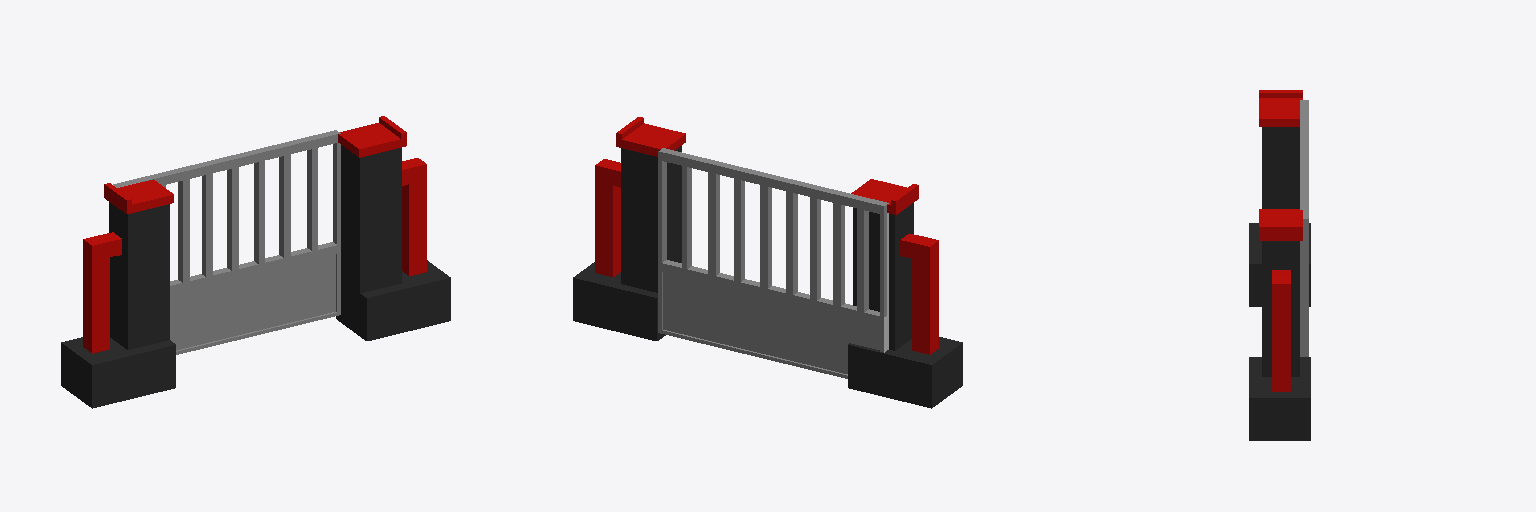
The model's file is pagerPM3D_Cube3D1.OBJ.
The picture shows the model from 3 angles: view 1: azimuth 30°, elevation 25°; view 2: azimuth 150°, elevation 25°; view 3: azimuth 270°, elevation 25°; orthographic projection.
Visible parts, largest first — view 1: pagerPM3D_Cube3D1; view 2: pagerPM3D_Cube3D1; view 3: pagerPM3D_Cube3D1.
Boxes of the visible parts, x1=… form: pagerPM3D_Cube3D1: x1=61, y1=116, x2=450, y2=408; pagerPM3D_Cube3D1: x1=573, y1=117, x2=962, y2=408; pagerPM3D_Cube3D1: x1=1249, y1=90, x2=1310, y2=440.
Bounding box in the file's own units: 8.84 × 4.59 × 1.33.